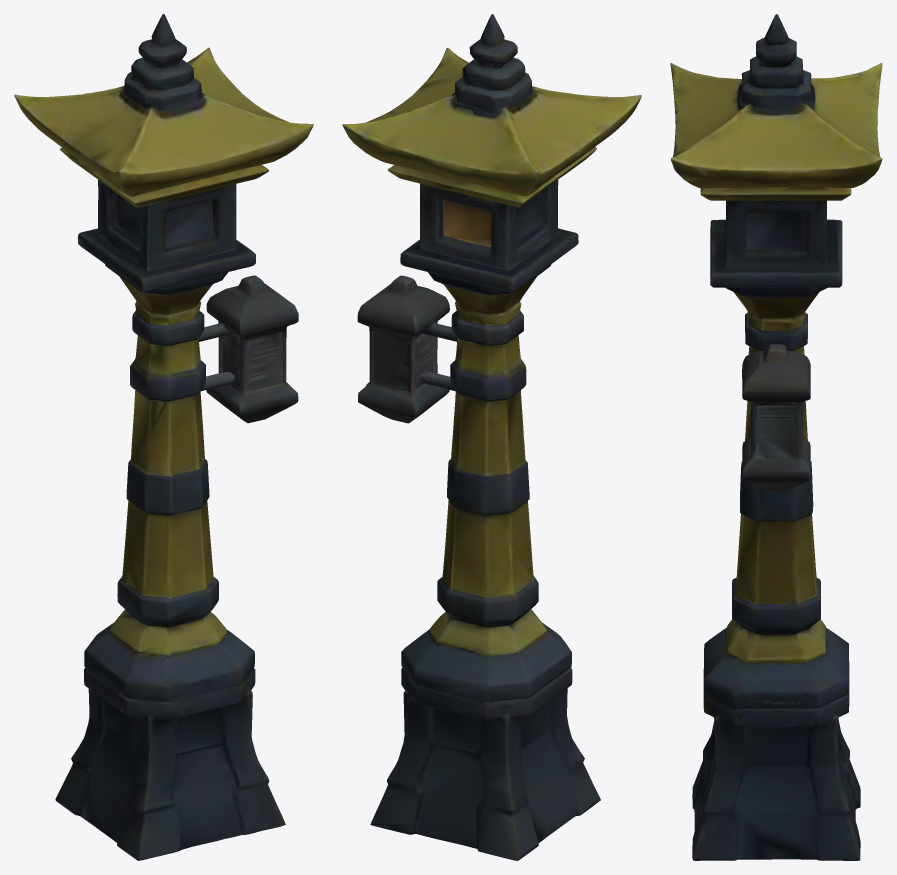
File: prop_kagura_lamp.fbx
3 renders of one model, left to right at view 1: azimuth 30°, elevation 25°; view 2: azimuth 150°, elevation 25°; view 3: azimuth 270°, elevation 25°, orthographic.
Visible parts, largest first — view 1: geometry_0; view 2: geometry_0; view 3: geometry_0.
Boxes of the visible parts, x1=… form: geometry_0: x1=14, y1=14, x2=313, y2=860; geometry_0: x1=342, y1=14, x2=641, y2=860; geometry_0: x1=670, y1=14, x2=882, y2=860.
Bounding box in the file's own units: 0.2827 × 1 × 0.2385.
Materials: 1 (1 with a texture image).
